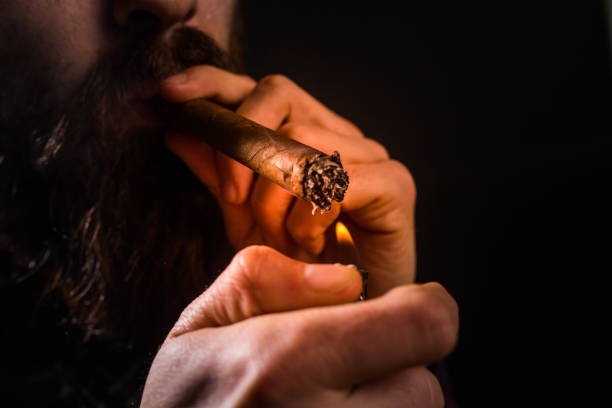cigarette: (154, 90, 353, 211)
